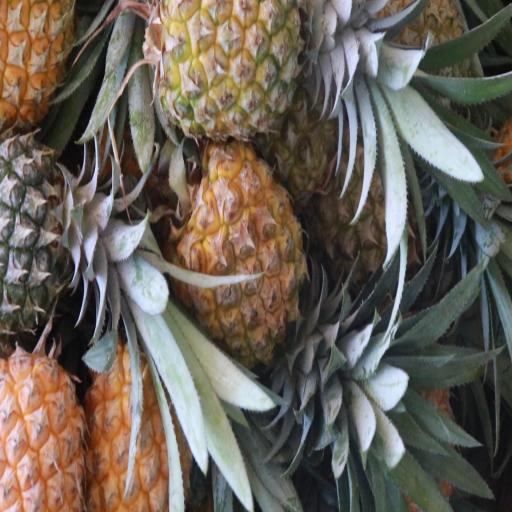------------------------------: (314, 144, 418, 293)
Pineapple - v8 v1: (172, 138, 307, 368), (160, 0, 310, 142), (82, 345, 187, 508), (0, 354, 85, 510), (0, 0, 73, 138)
